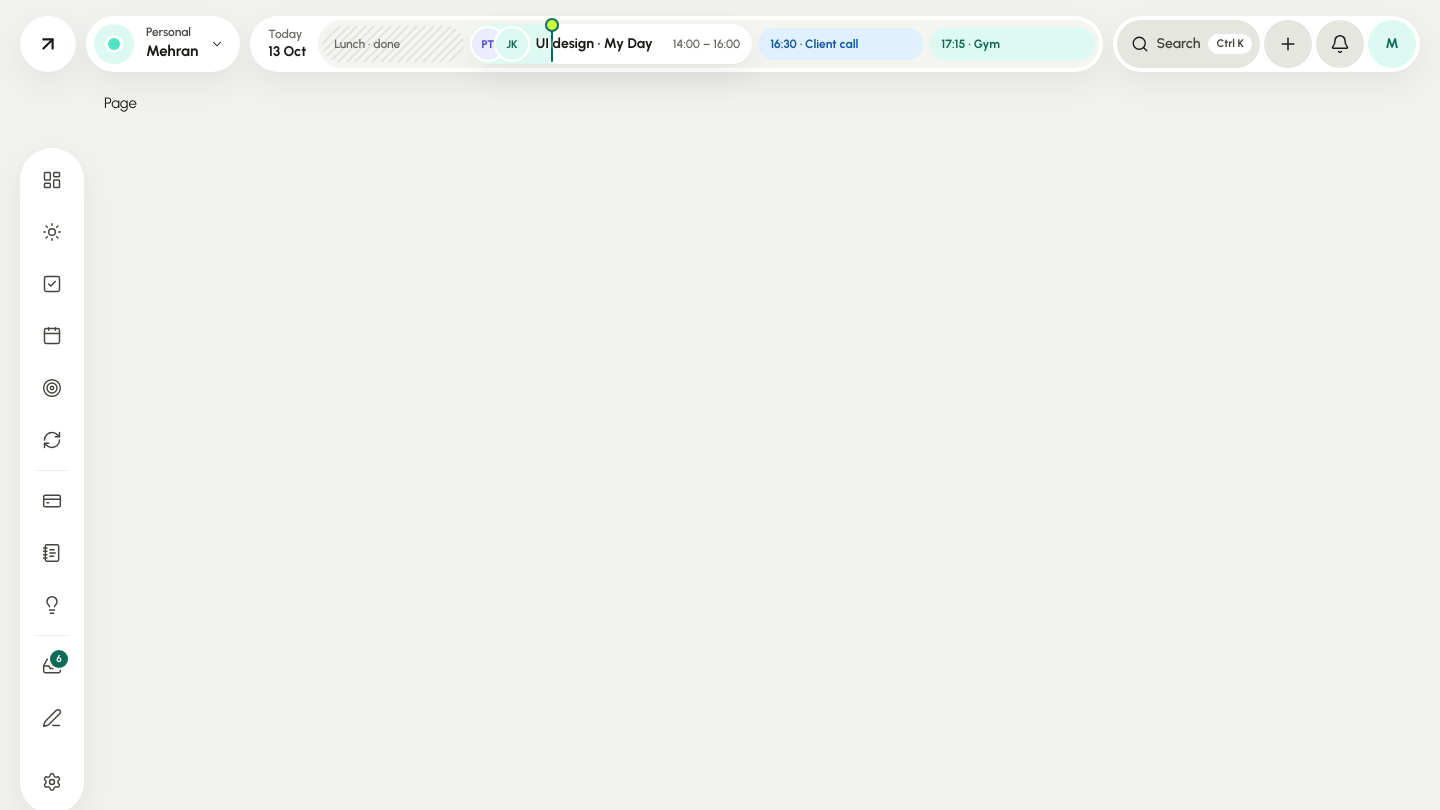
Test case: desktop top bar › shows the notifications empty state without an unread badge
Click the button named "Notifications". click: (1340, 44)
box: 1316,20 -> 1364,68
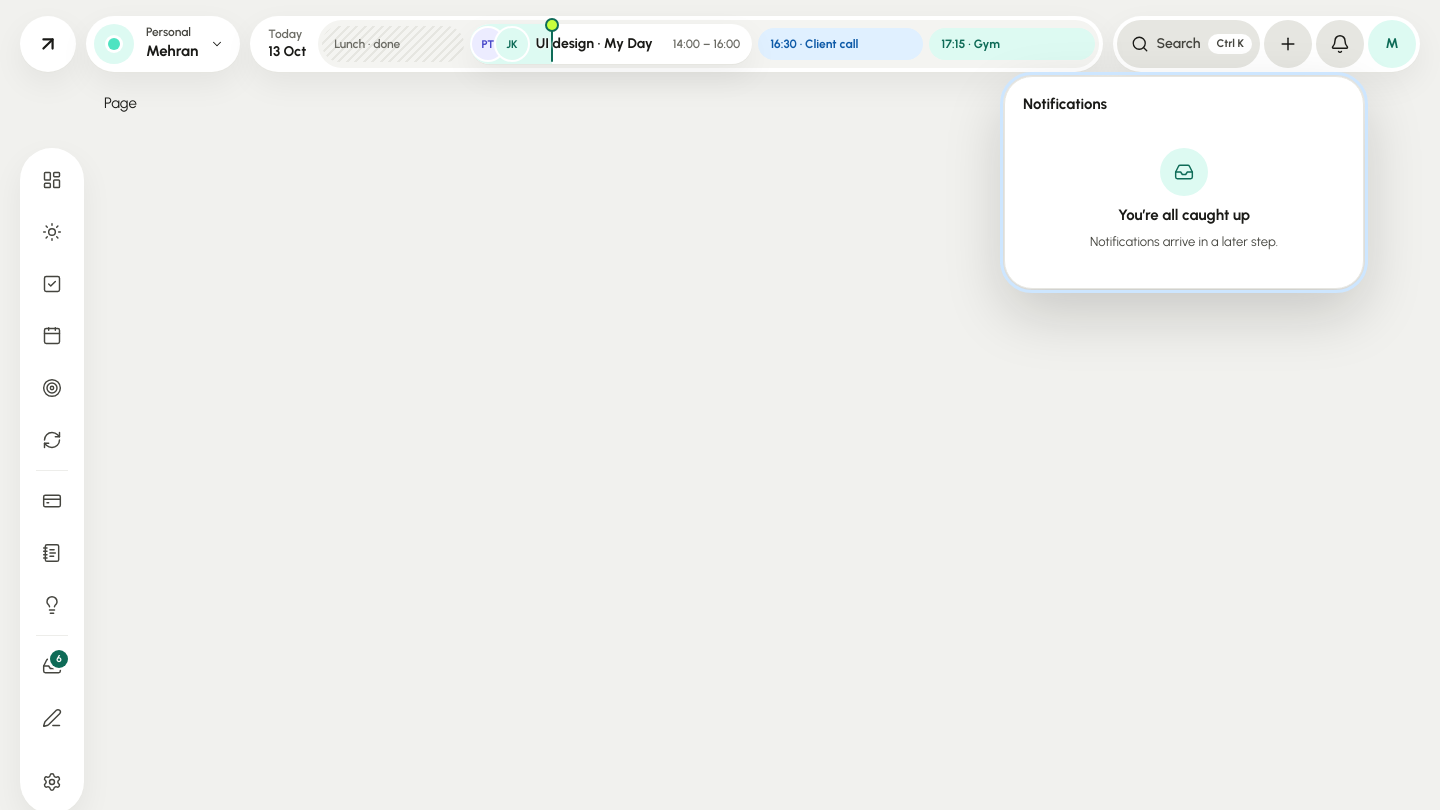
Result: the message shows "You’re all caught up" at 1118,206 -> 1250,224
